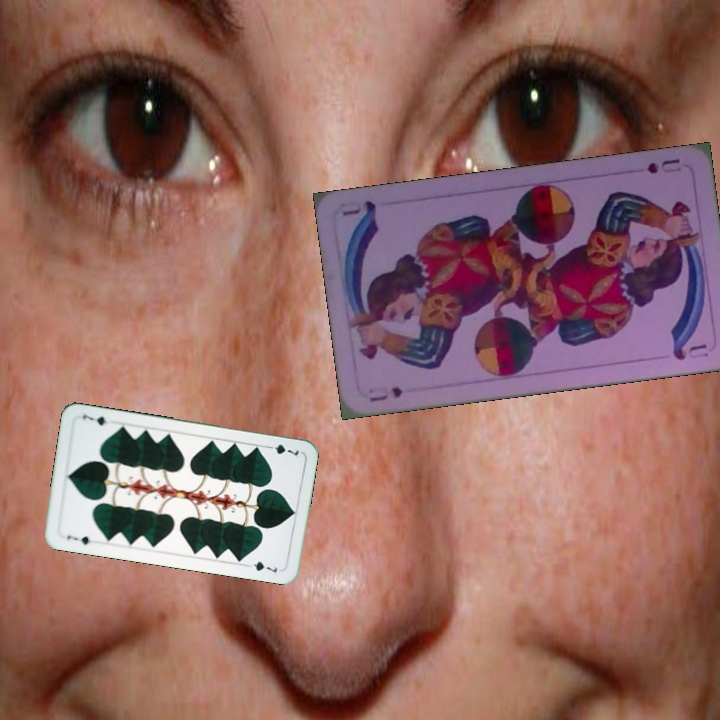G7: (262, 440, 301, 458), (63, 531, 93, 547)
SU: (643, 155, 684, 177), (365, 383, 406, 404)
